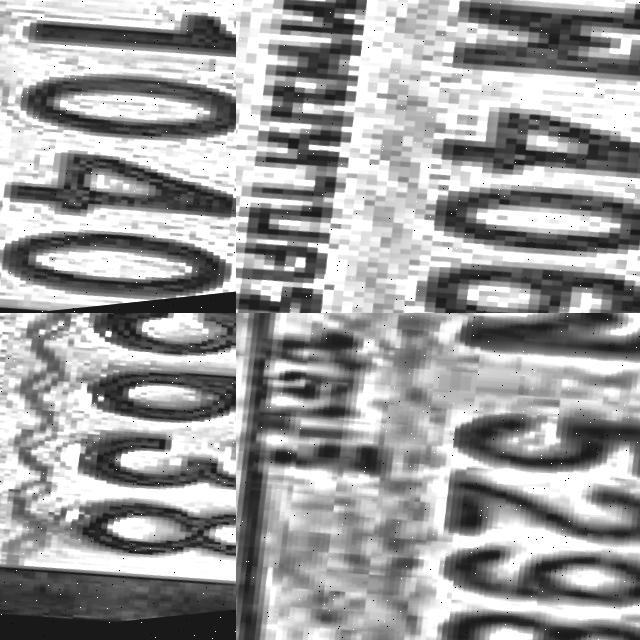license-plate: (236, 313, 640, 640), (236, 0, 640, 313), (0, 313, 236, 640), (0, 0, 236, 313)
